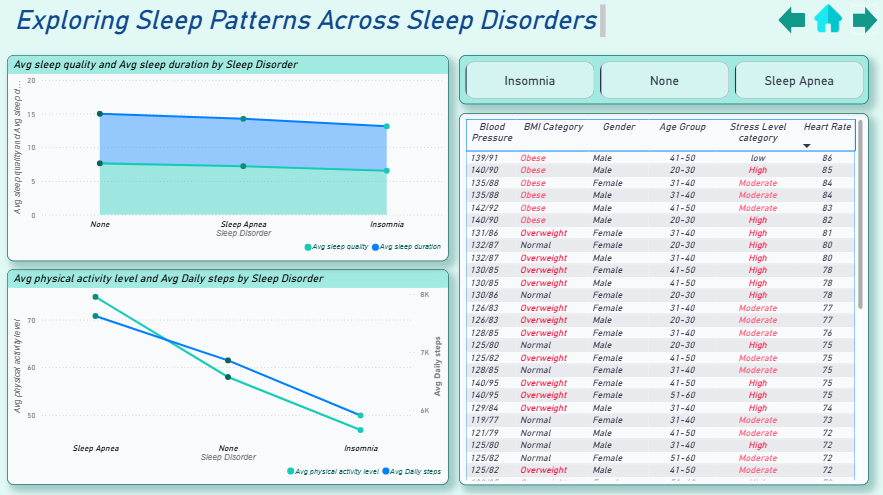

Layout of this report page (visuals, bound fields, positions):
{"tool":"powerbi","page":{"name":"SLEEP DISORDER ","canvas":[1280,720],"ordinal":6},"visuals":[{"type":"lineChart","fields":{"Y":["Sleep_health_and_lifestyle_data.Avg physical activity level"],"Category":["Sleep_health_and_lifestyle_data.Sleep Disorder"],"Y2":["Sleep_health_and_lifestyle_data.Avg Daily steps"]},"box":[13,393.1,636.5,311],"z":0},{"type":"stackedAreaChart","fields":{"Y":["Sleep_health_and_lifestyle_data.Average sleep quality","Sleep_health_and_lifestyle_data.Avg sleep duration"],"Category":["Sleep_health_and_lifestyle_data.Sleep Disorder"]},"box":[13,85,636.5,296.6],"z":1000},{"type":"tableEx","fields":{"Values":["Sleep_health_and_lifestyle_data.Blood Pressure","Sleep_health_and_lifestyle_data.BMI Category","Sleep_health_and_lifestyle_data.Gender","Sleep_health_and_lifestyle_data.Age Category","Sleep_health_and_lifestyle_data.Stress Level  category","SLEEP HEALTH.Heart Rate"]},"box":[663.8,168.5,590.4,535.7],"z":2000},{"type":"textbox","box":[0,7.2,879.8,61.9],"z":3000},{"type":"shape","box":[1123.2,14.4,38.9,40.3],"z":4000},{"type":"shape","box":[1228.3,13,38.9,41.8],"z":5000},{"type":"advancedSlicerVisual","fields":{"Values":["SLEEP HEALTH.Sleep Disorder"]},"box":[663.8,85,590.4,70.6],"z":6000},{"type":"image","box":[1163.5,7.2,64.8,50.4],"z":7000}]}

Visuals, with their boxes in screenshot pixels (x1, y1, x2, y2), scaled from the page's 1280x720 canvas onto the 883x495 screenshot:
lineChart - Sleep_health_and_lifestyle_data.Avg physical activity level x Sleep_health_and_lifestyle_data.Sleep Disorder: [x1=9, y1=270, x2=448, y2=484]
stackedAreaChart - Sleep_health_and_lifestyle_data.Average sleep quality x Sleep_health_and_lifestyle_data.Avg sleep duration: [x1=9, y1=58, x2=448, y2=262]
tableEx - Sleep_health_and_lifestyle_data.Blood Pressure x Sleep_health_and_lifestyle_data.BMI Category: [x1=458, y1=116, x2=865, y2=484]
textbox: [x1=0, y1=5, x2=607, y2=48]
shape: [x1=775, y1=10, x2=802, y2=38]
shape: [x1=847, y1=9, x2=874, y2=38]
advancedSlicerVisual - SLEEP HEALTH.Sleep Disorder: [x1=458, y1=58, x2=865, y2=107]
image: [x1=803, y1=5, x2=847, y2=40]
